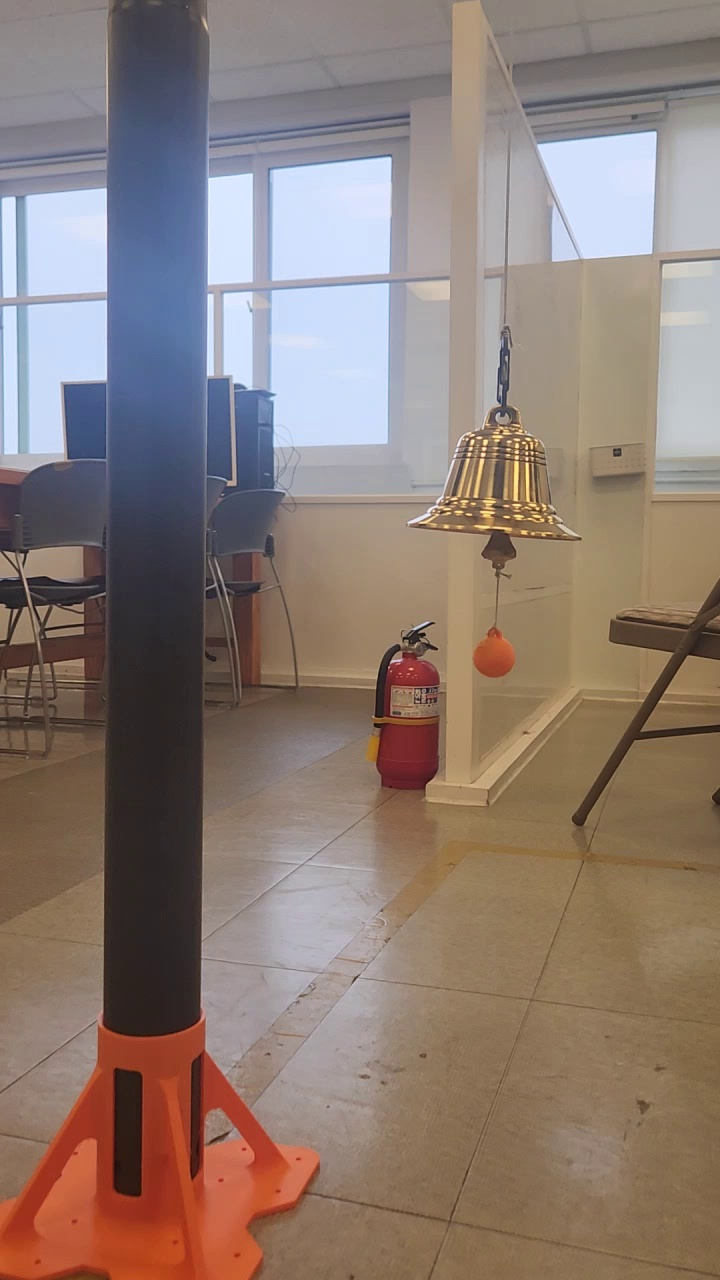bell: (406, 408, 586, 546)
pole: (97, 0, 212, 1025)
